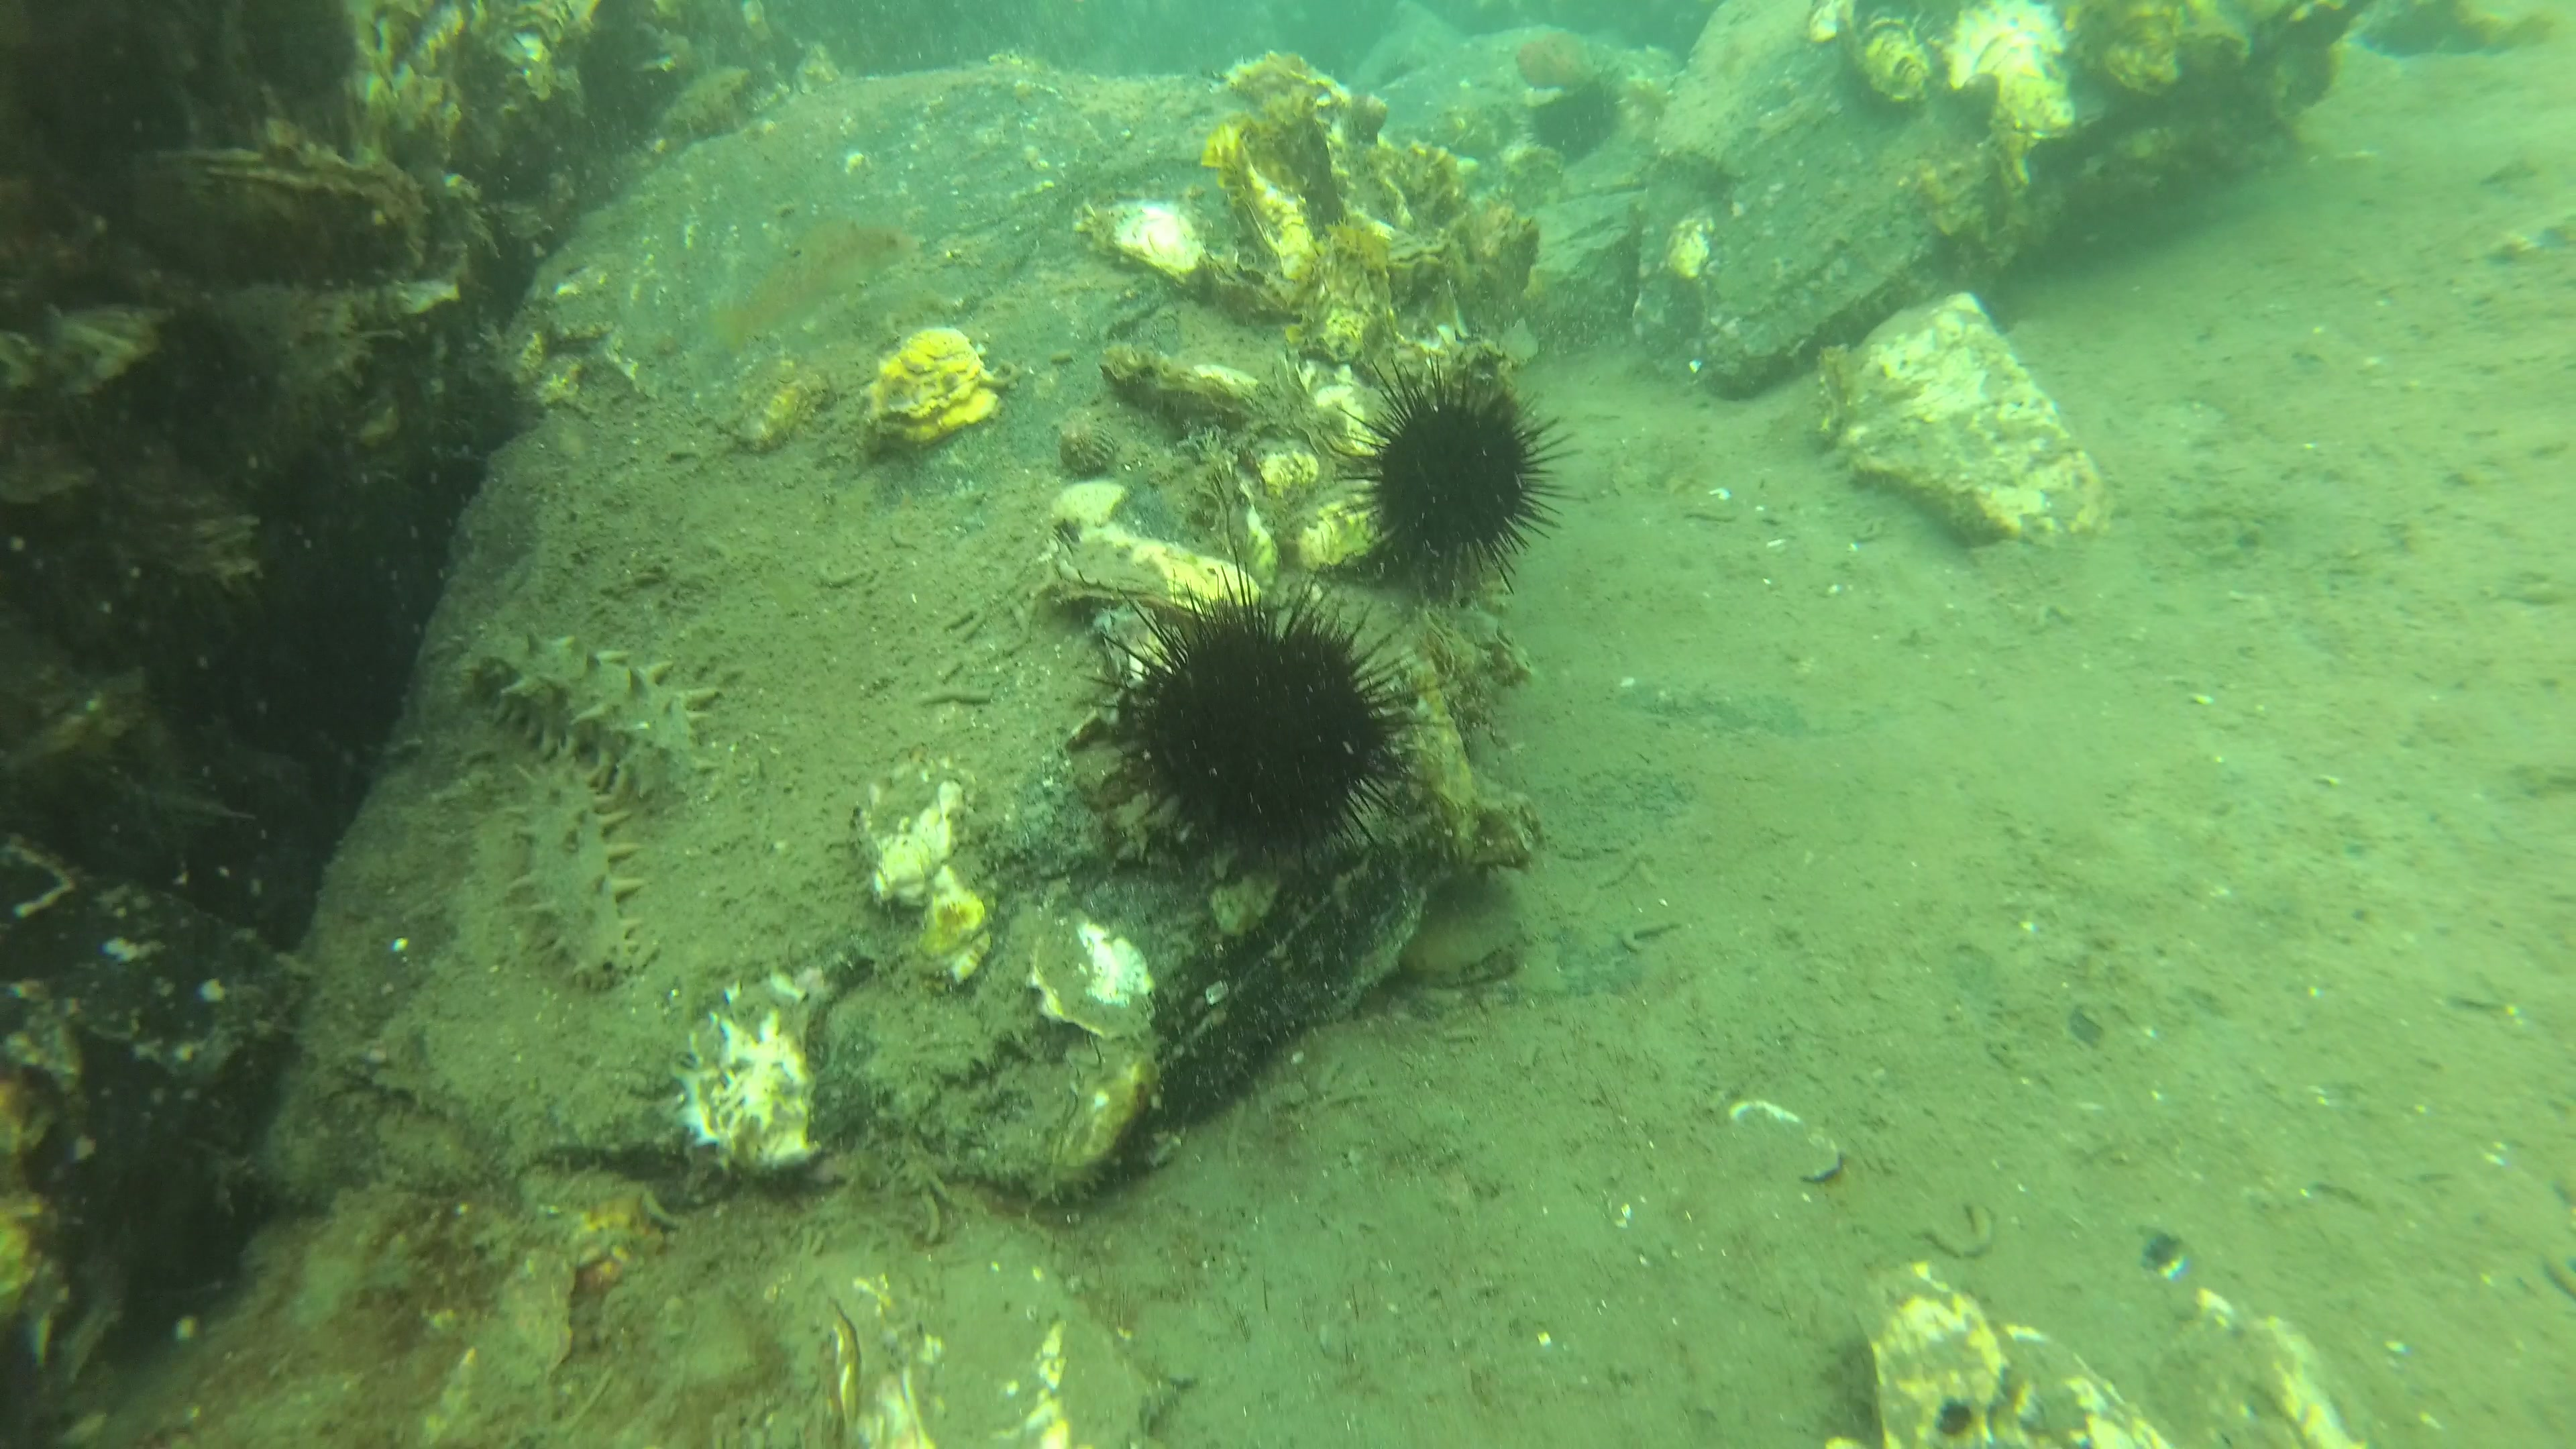echinus: (1088, 586, 1433, 885), (1336, 356, 1568, 603)
holothurian: (455, 623, 722, 796), (502, 736, 644, 984)
scallop: (1056, 410, 1125, 483)
